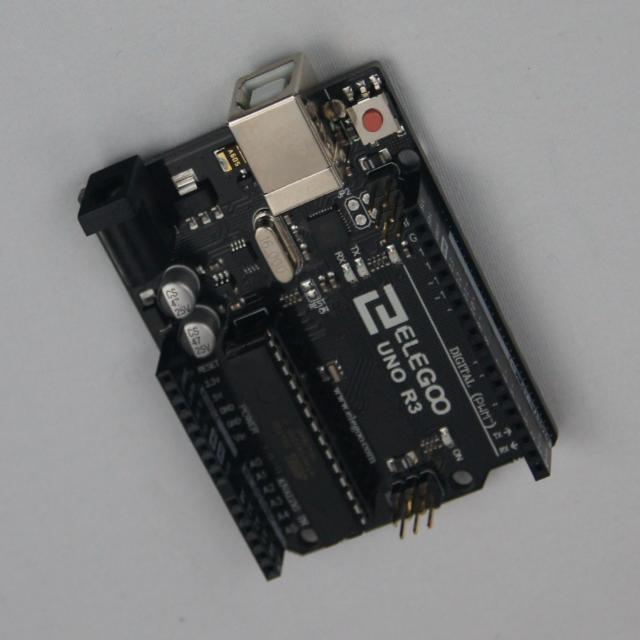Arduino Uno -Black-: (79, 55, 558, 580)
